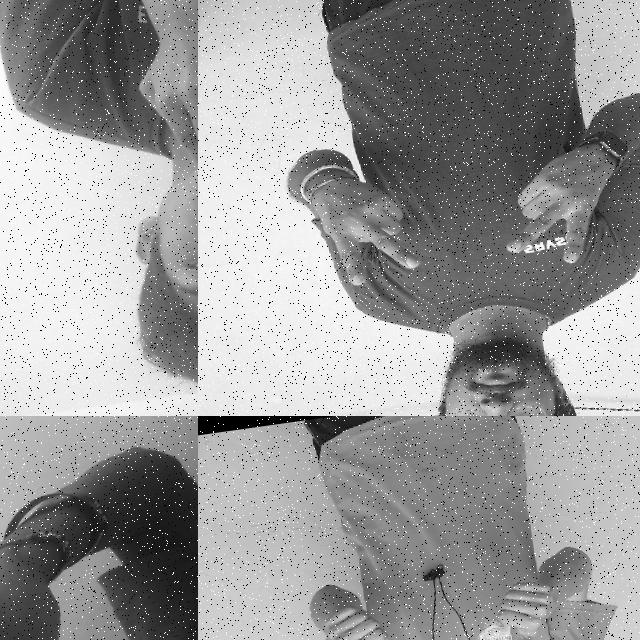Chin Flick: (88, 0, 198, 392)
Middle Finger: (0, 547, 96, 640)
Reversed Victory: (481, 131, 631, 287), (300, 150, 430, 302)
Thumbs Up: (482, 567, 568, 640), (313, 593, 407, 640)
